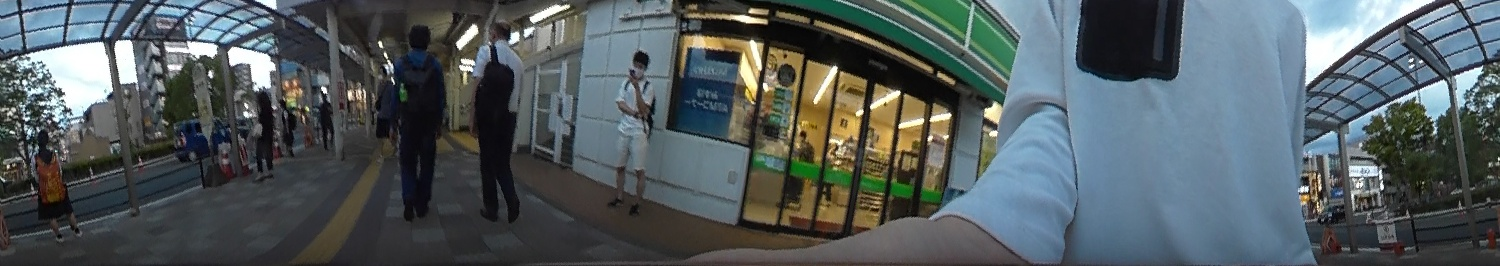difficult_person: (369, 68, 396, 159), (312, 95, 338, 150), (277, 98, 301, 154)
person: (464, 13, 538, 224), (390, 16, 451, 224), (608, 46, 658, 215), (24, 123, 82, 239), (250, 86, 281, 180)
